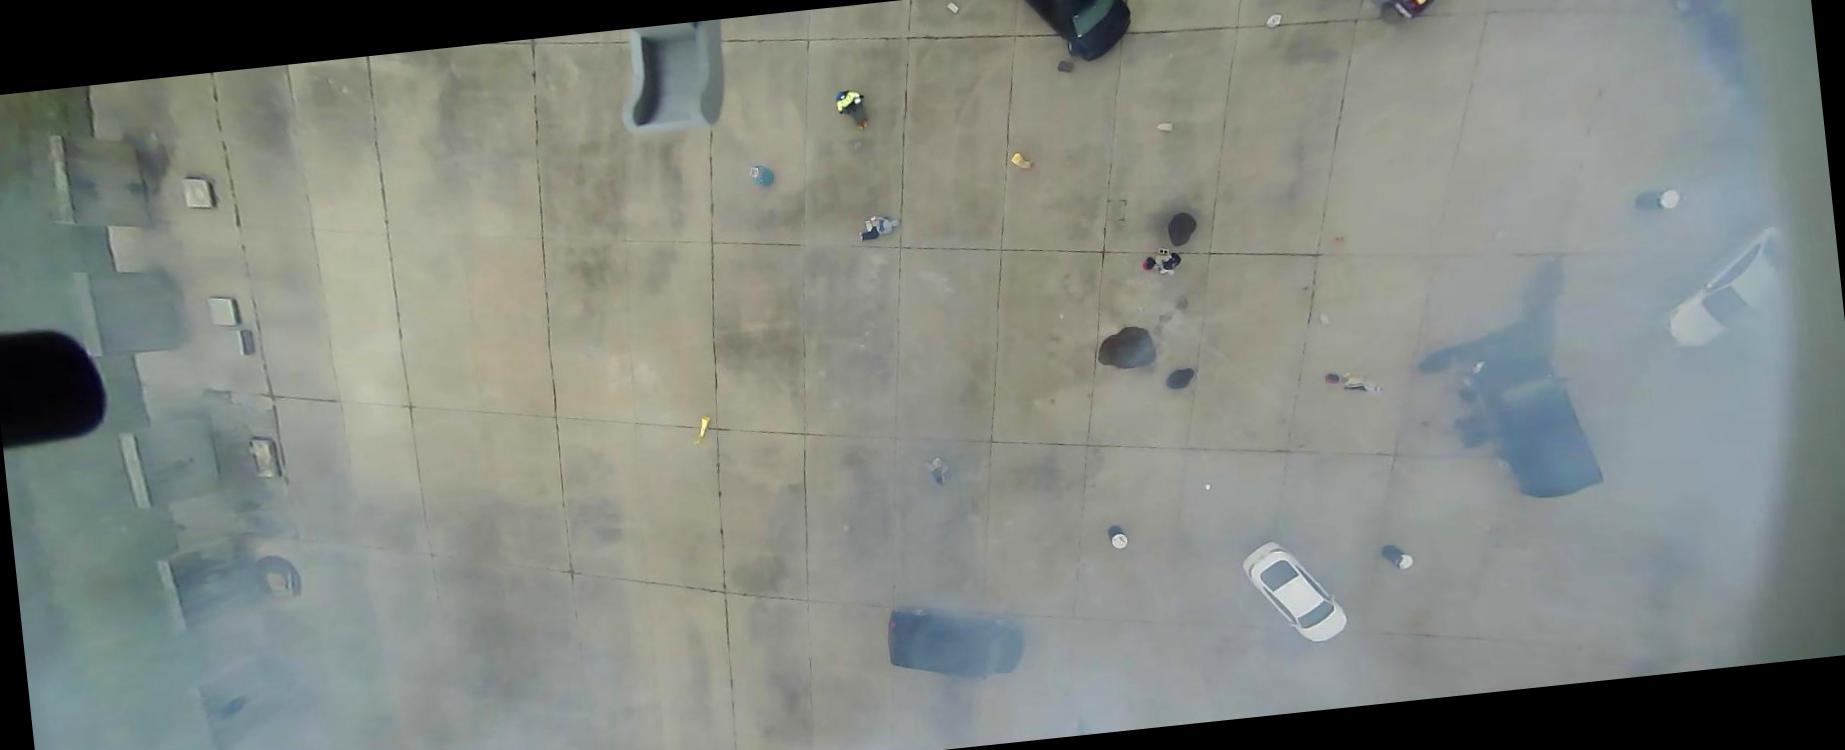vehicle: (1463, 347, 1605, 505), (1658, 225, 1797, 352), (884, 596, 1027, 691), (1240, 532, 1350, 650), (1014, 0, 1137, 68), (1666, 0, 1741, 94), (1336, 0, 1466, 29)
